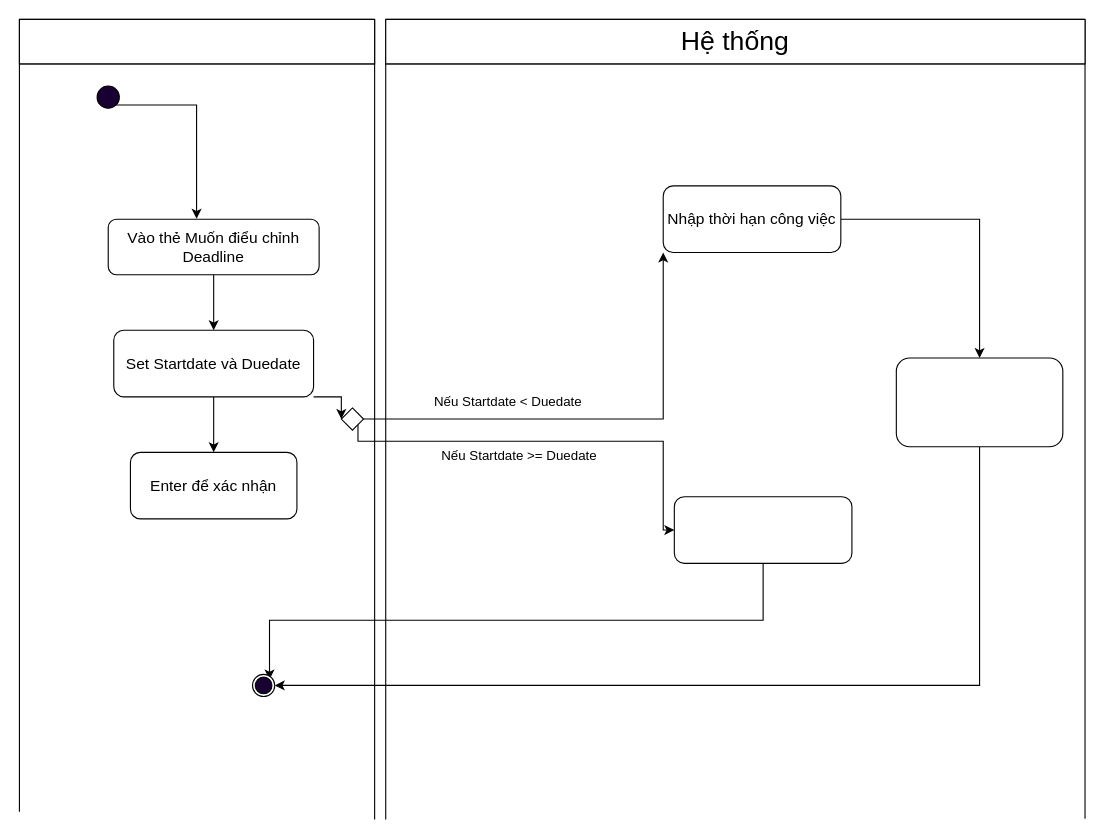
The diagram is 1106 pixels wide and 840 high, and some of its shapes have lost their labels. Here are the shapes that lost their labels. From the top down, the centre of each, then its label:
[196,41]: Người dùng
[979,402]: Thông báo cho người dùng khi sắp tới Deadline
[762,529]: Báo lỗi, bắt nhập lại
